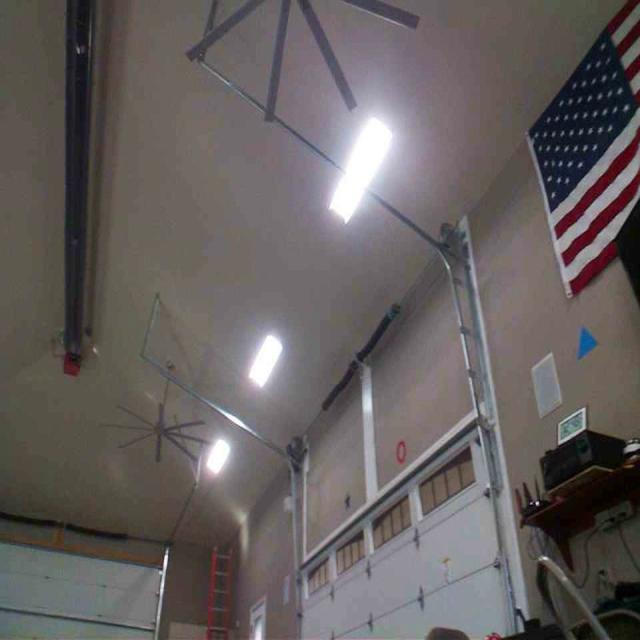ring_red: (394, 439, 406, 463)
star_black: (342, 491, 352, 508)
triangle_blue: (575, 324, 599, 360)
